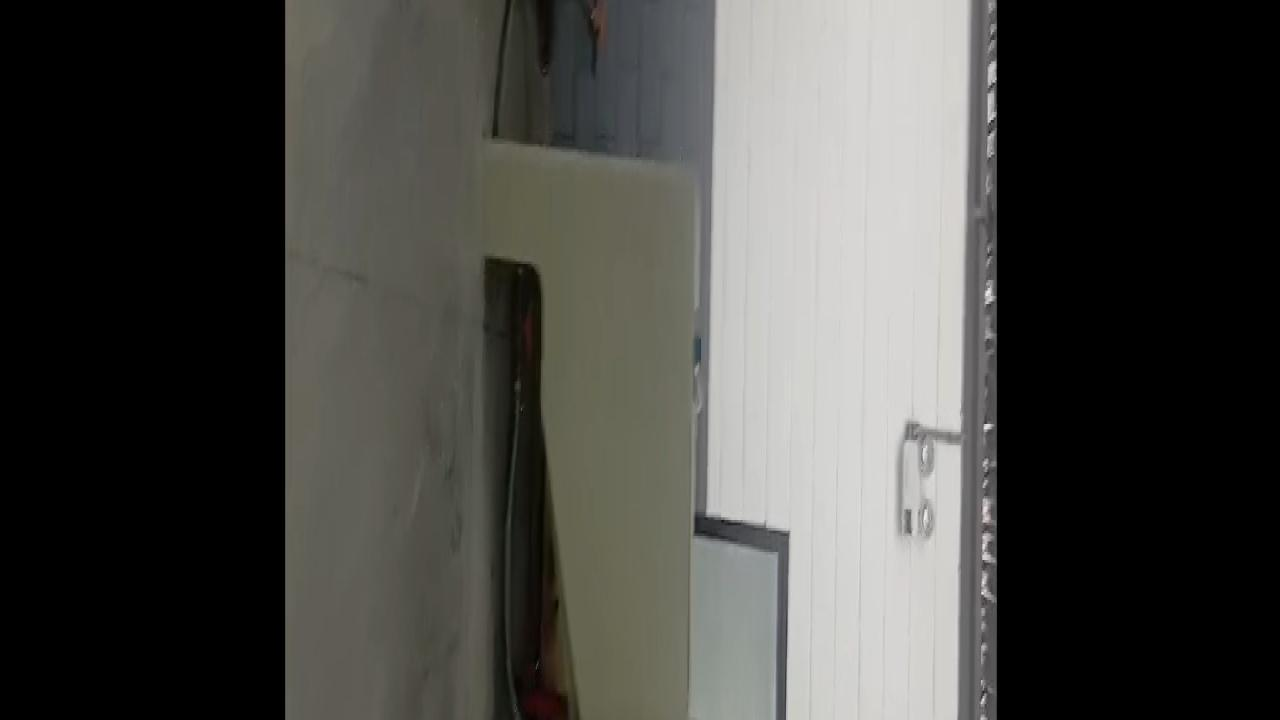Cube: (692, 334, 701, 376)
